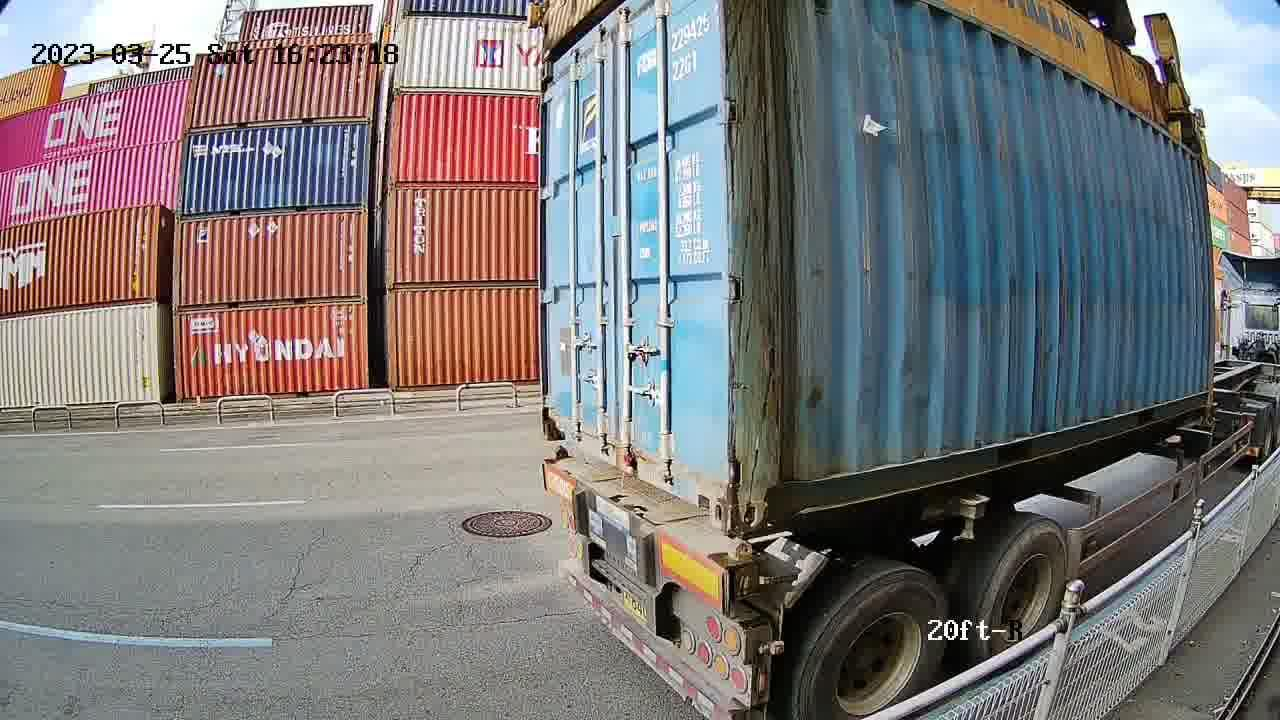Chassis: (545, 458, 755, 604)
Cone: (728, 544, 754, 596)
Hole_L: (734, 462, 801, 536), (543, 397, 576, 445)
Hole_R: (692, 457, 734, 533)
Tire: (796, 569, 949, 719), (980, 522, 1068, 669)
